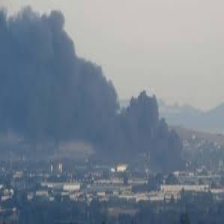smoke: (4, 8, 178, 164)
